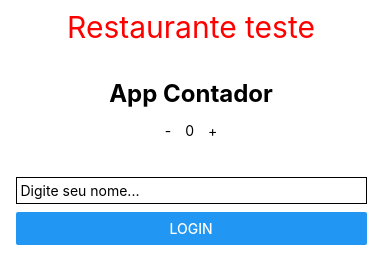
Test: App Componente testes › deve mudar o contador ao pressionar o botão
Click the text "+".
click(213, 130)  # box [208, 122, 217, 139]
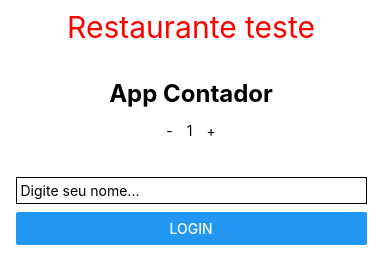
Click the text "+".
click(211, 130)  # box [206, 122, 216, 139]
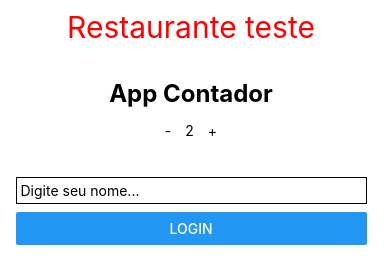
Expected: the text "2" is shown, [185, 122, 194, 139]
